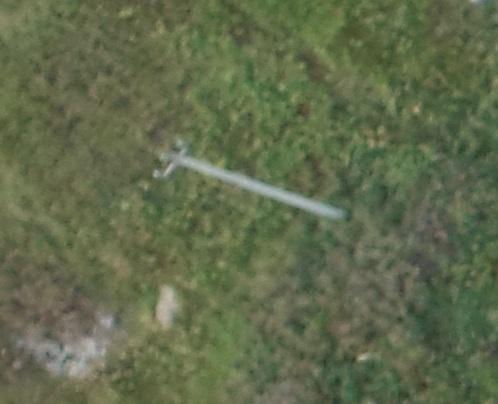opora: (147, 134, 348, 224)
